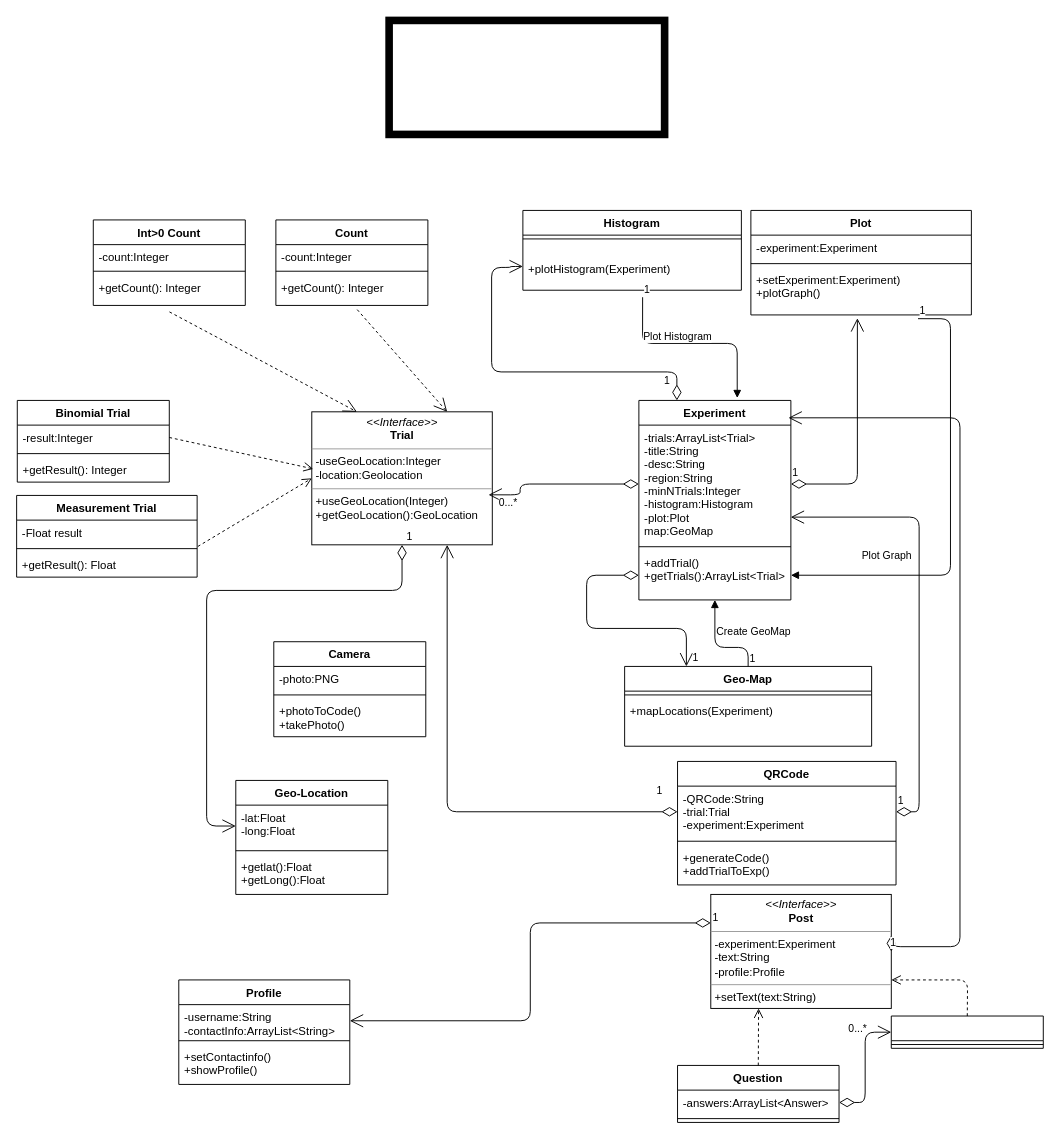
This 1060x1139 diagram has some shape labels left out. The centre of each missing label's shape, as x and y in pixels:
Answer: pixel 966 1031
Model: pixel 526 77
